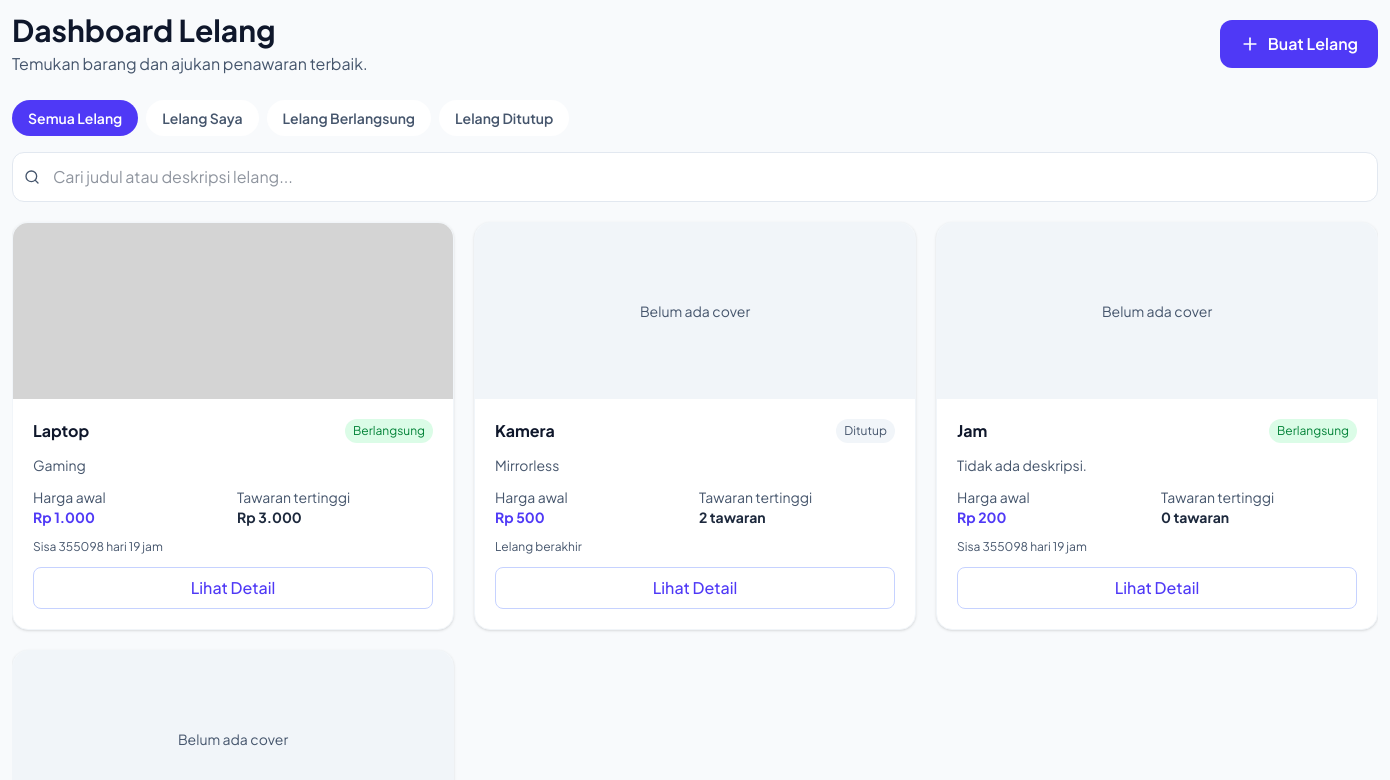
Test: HomePage › live search memfilter judul dan deskripsi
In the search field with placeholder "Cari judul atau deskripsi lelang...": (695,177) [12, 152, 1378, 202], type "mirror"
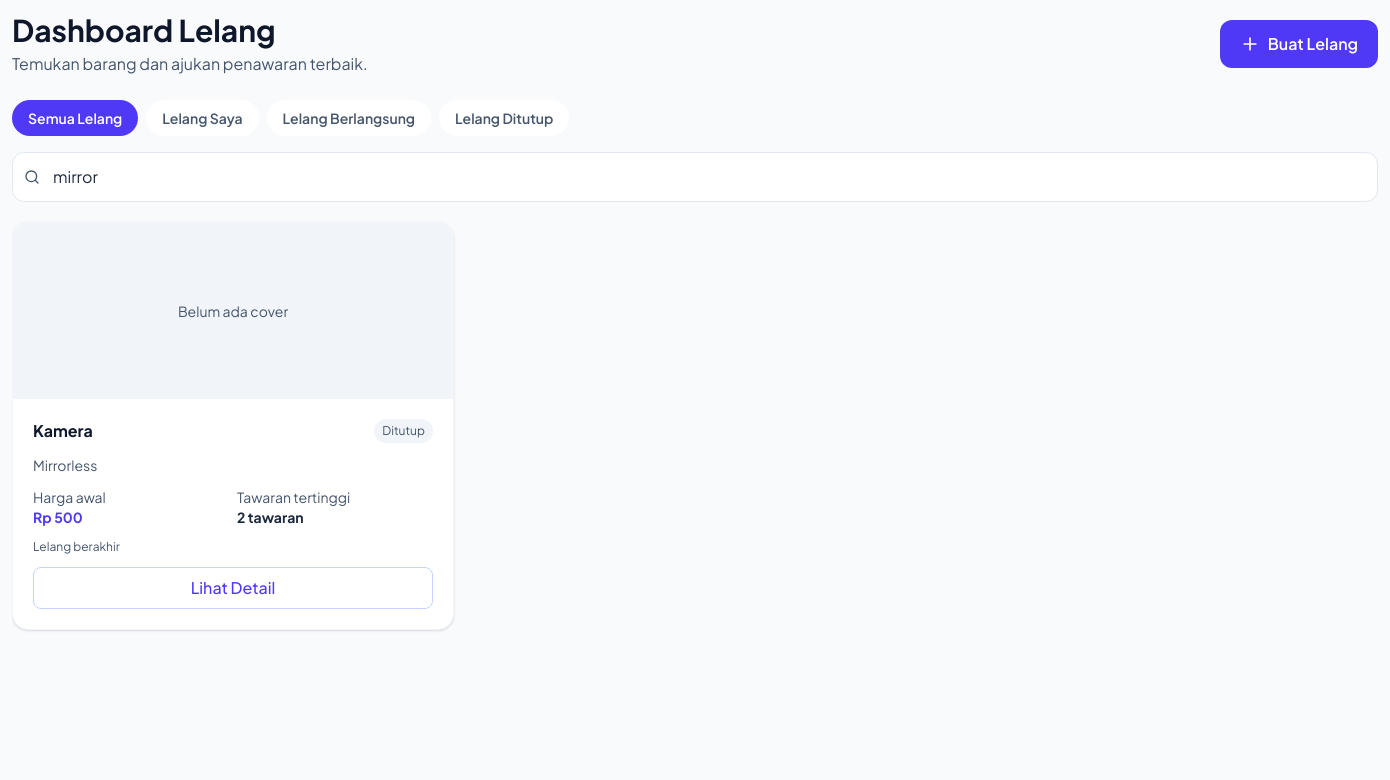
expect the element with test id "aucation-card" shows "Kamera": met, box [33, 420, 93, 441]
expect the number of elements with test id "aucation-card" is 1: met, box [12, 222, 454, 630]
Replace the text in the search field named "Cari lelang" with "lap": (695,177) [12, 152, 1378, 202]
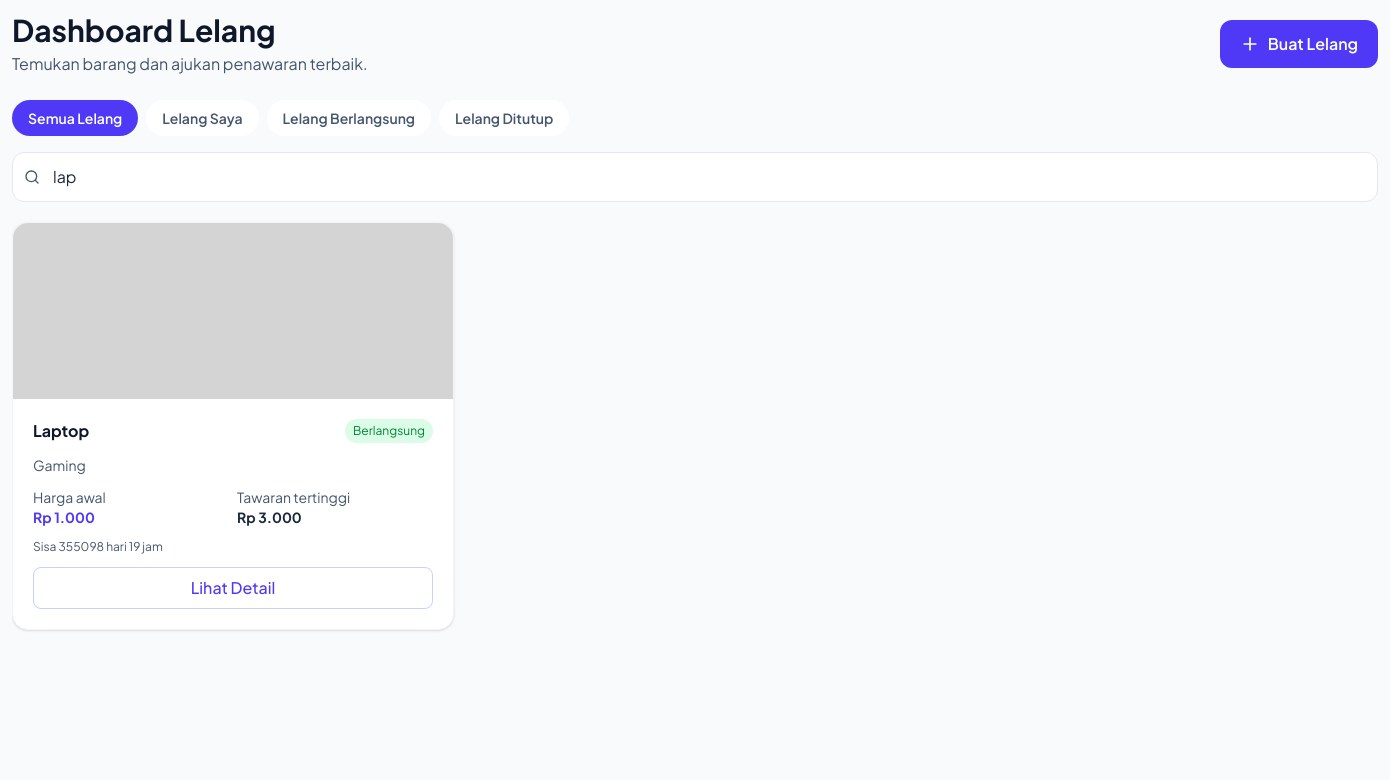
expect the element with test id "aucation-card" shows "Laptop": met, box [33, 420, 89, 441]
